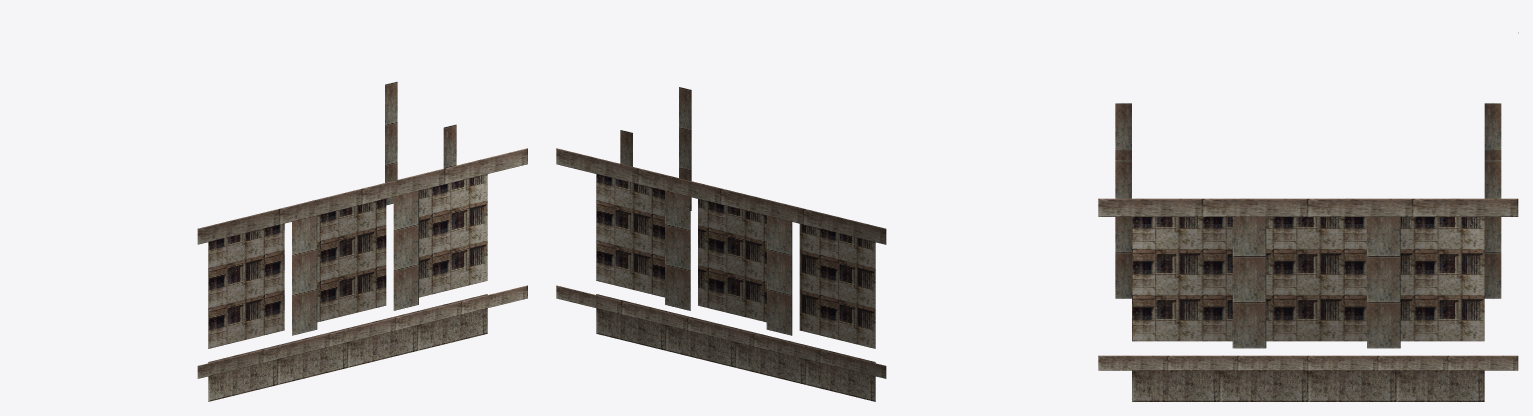
Rendered from M10_Z01_04_BigWallA.glb.
The picture shows the model from 3 angles, left to right: view 1: azimuth 30°, elevation 25°; view 2: azimuth 150°, elevation 25°; view 3: azimuth 270°, elevation 25°; orthographic projection. The views are drawn at different scales.
Visible parts, largest first — view 1: M10_Z01_04_BIGWALLA; view 2: M10_Z01_04_BIGWALLA; view 3: M10_Z01_04_BIGWALLA.
Part boxes in pixels (x1=…): M10_Z01_04_BIGWALLA: x1=197, y1=81, x2=527, y2=401; M10_Z01_04_BIGWALLA: x1=556, y1=87, x2=886, y2=401; M10_Z01_04_BIGWALLA: x1=1098, y1=32, x2=1518, y2=401.
Bounding box in the file's own units: 25.97 × 14.29 × 24.98.
4 materials, 4 textured.
